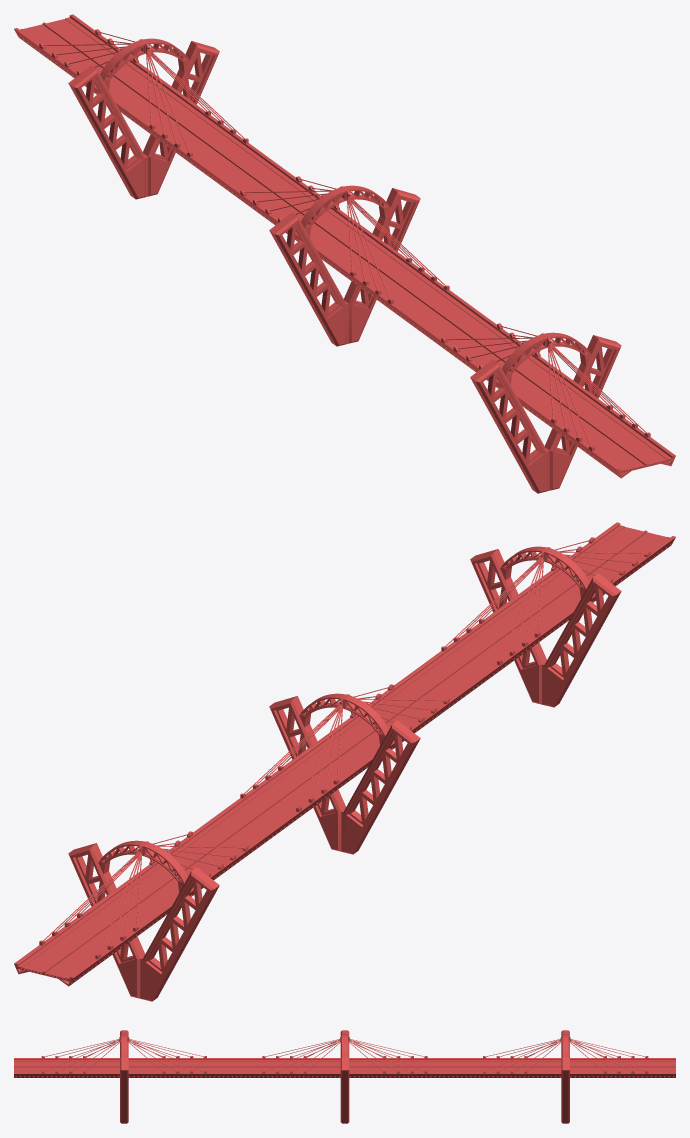
File: bridge.obj
The picture shows the model from 3 angles, top to bottom: view 1: azimuth 30°, elevation 25°; view 2: azimuth 150°, elevation 25°; view 3: azimuth 270°, elevation 25°; orthographic projection. The views are drawn at different scales.
Parts seen in each view (by area): view 1: Layer0_001; view 2: Layer0_001; view 3: Layer0_001.
Part boxes in pixels (left/top/right/bottom): Layer0_001: left=14, top=14, right=675, bottom=493; Layer0_001: left=14, top=522, right=675, bottom=1001; Layer0_001: left=14, top=1030, right=675, bottom=1123.
Bounding box in the file's own units: 2582 × 2584 × 18424.
